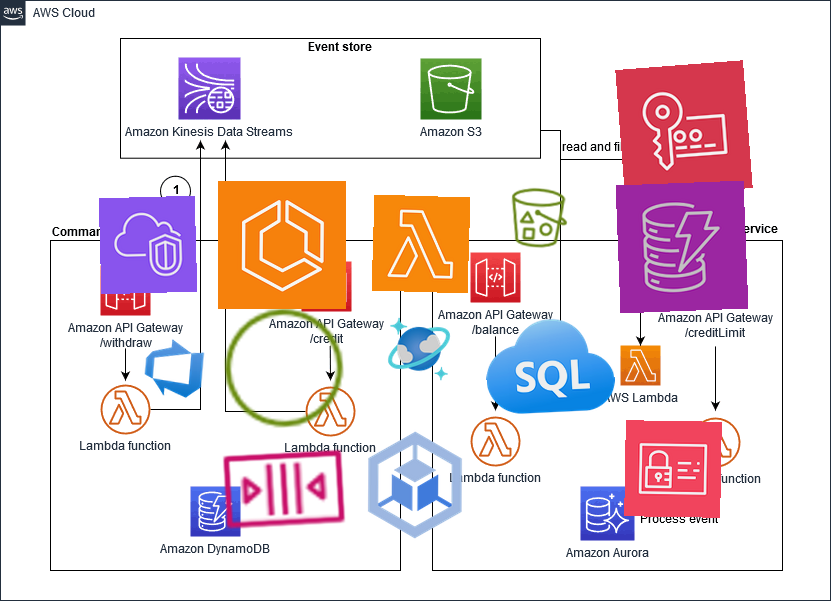aws_amazon_dynamodb: (615, 180, 749, 314)
aws_amazon_elastic_container_service: (217, 180, 347, 310)
aws_amazon_virtual_private_cloud: (98, 195, 198, 295)
aws_identity_and_access_management: (624, 420, 722, 518)
aws_key_management_service: (615, 60, 753, 198)
aws_lambda: (371, 194, 471, 294)
aws_simple_queue_service_queue: (216, 420, 352, 556)
aws_simple_storage_service_bucket_with_objects: (505, 184, 573, 252)
aws_simple_storage_service_object: (216, 300, 352, 436)
azure_cosmos_db: (385, 315, 453, 383)
azure_devops: (139, 333, 209, 403)
azure_sql: (482, 300, 618, 436)
gcp_google_kubernetes_engine: (350, 420, 480, 550)
